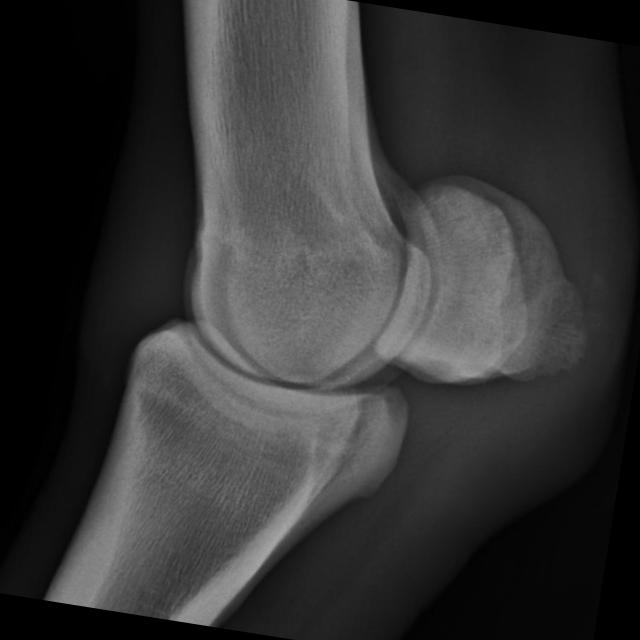bone remodeling: (432, 150, 619, 413)
